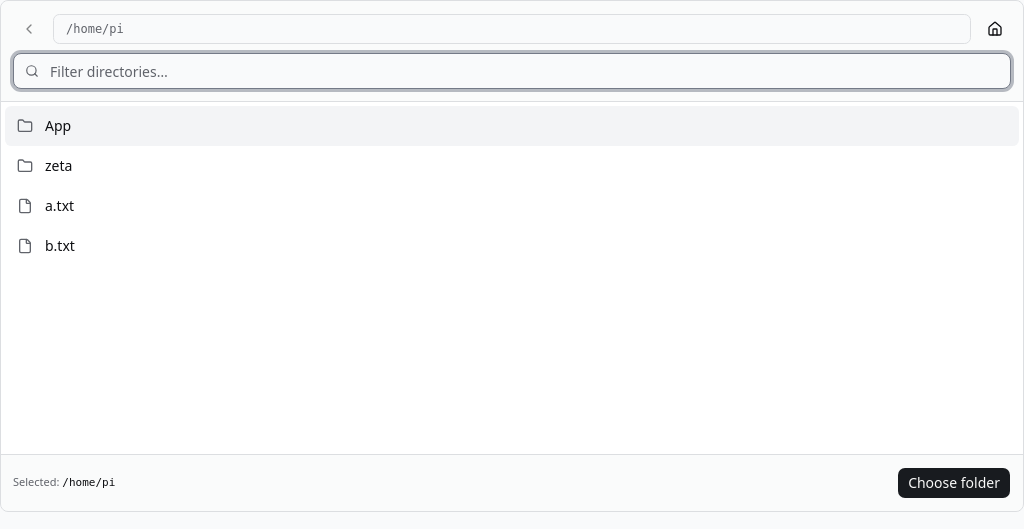
Test: FileBrowser › retries the failed directory instead of the last successful one
Expected: the text "App" is shown, [45,116,71,136]
Click the option "App". click: (25, 126)
box: [5,106,1019,146]
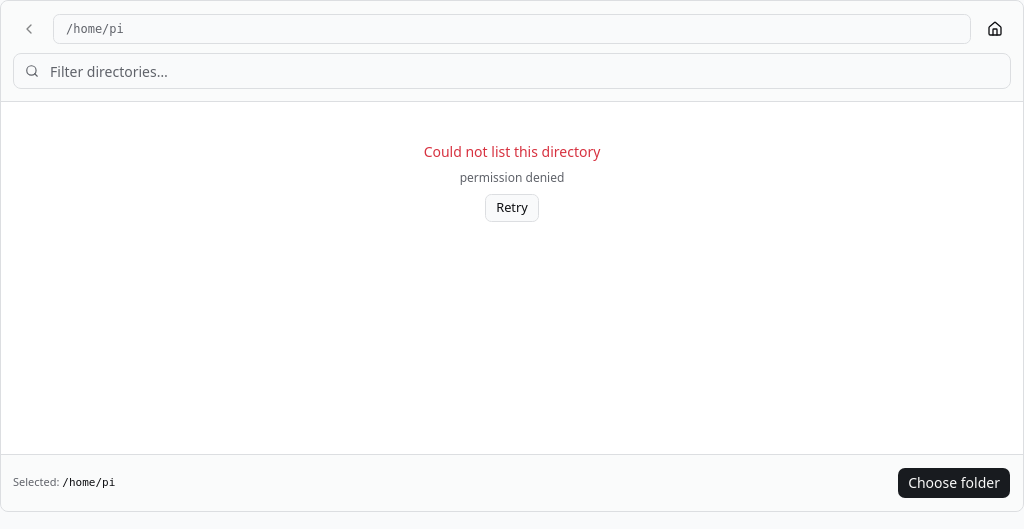
Now the text "Could not list this directory" is shown, box [424,142,600,162]
Click the button "Retry". click: (512, 208)
box: [485,194,539,222]
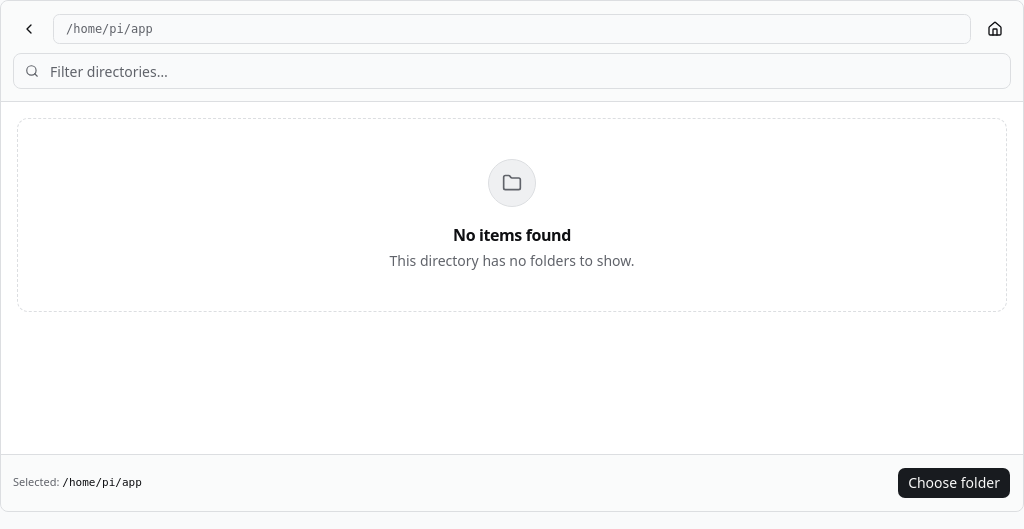
Now the 1st text titled "/home/pi/app" is shown, box [53,14,971,44]
Now the text "Could not list this directory" is gone
